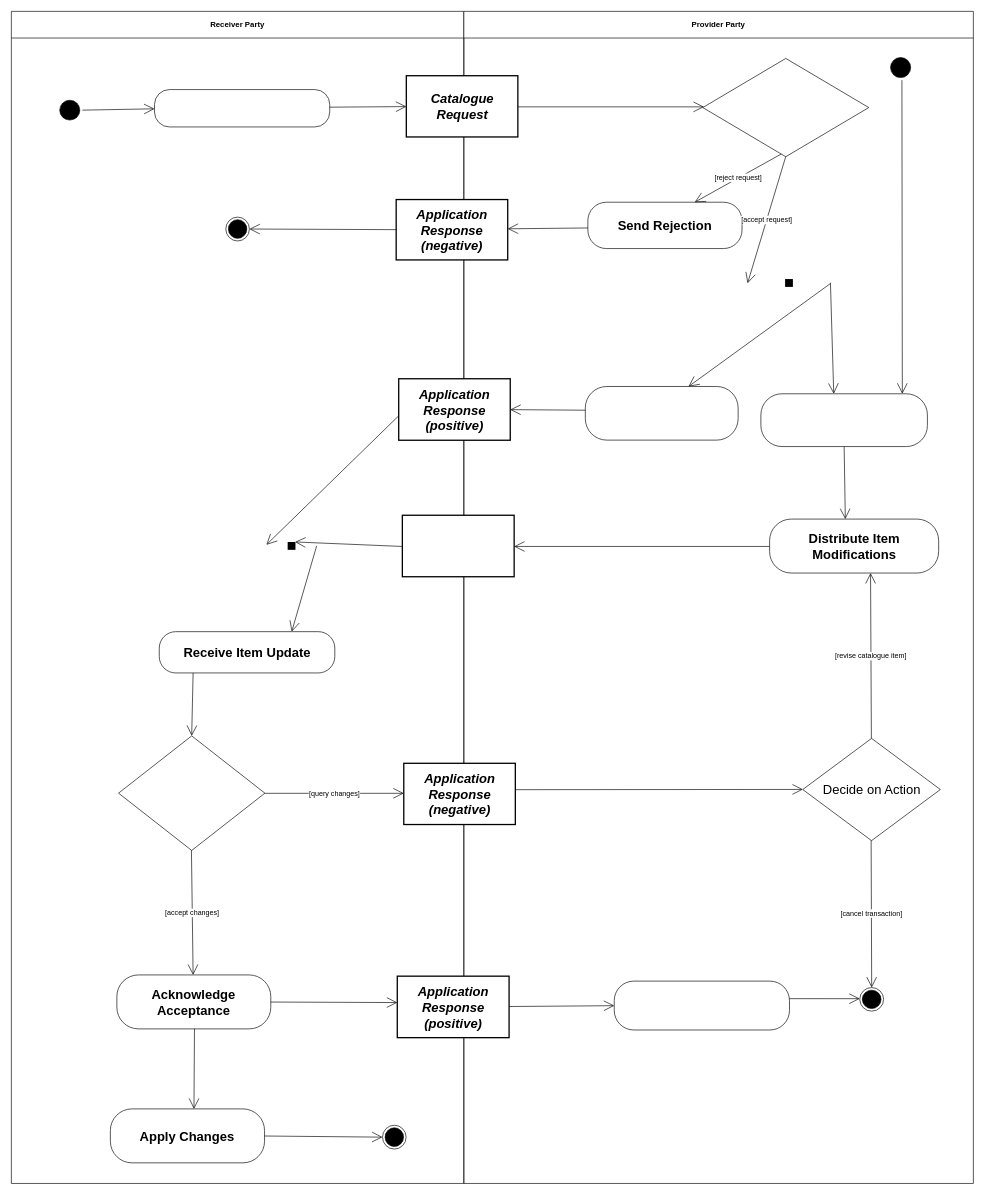
This 985x1195 diagram has some shape labels left out. Each missing label, with the centre of its shape:
"Activate Changes" belongs at [701,1005].
"Catalogue Item Specification Update" belongs at [457,545].
"Prepare Catalogue Item Update Information" belongs at [843,420].
"Request Catalogue Update" belongs at [242,108].
"Respond to Request" belongs at [785,107].
"Review Item Details" belongs at [191,792].
"Send Acceptance Response" belongs at [661,413].
